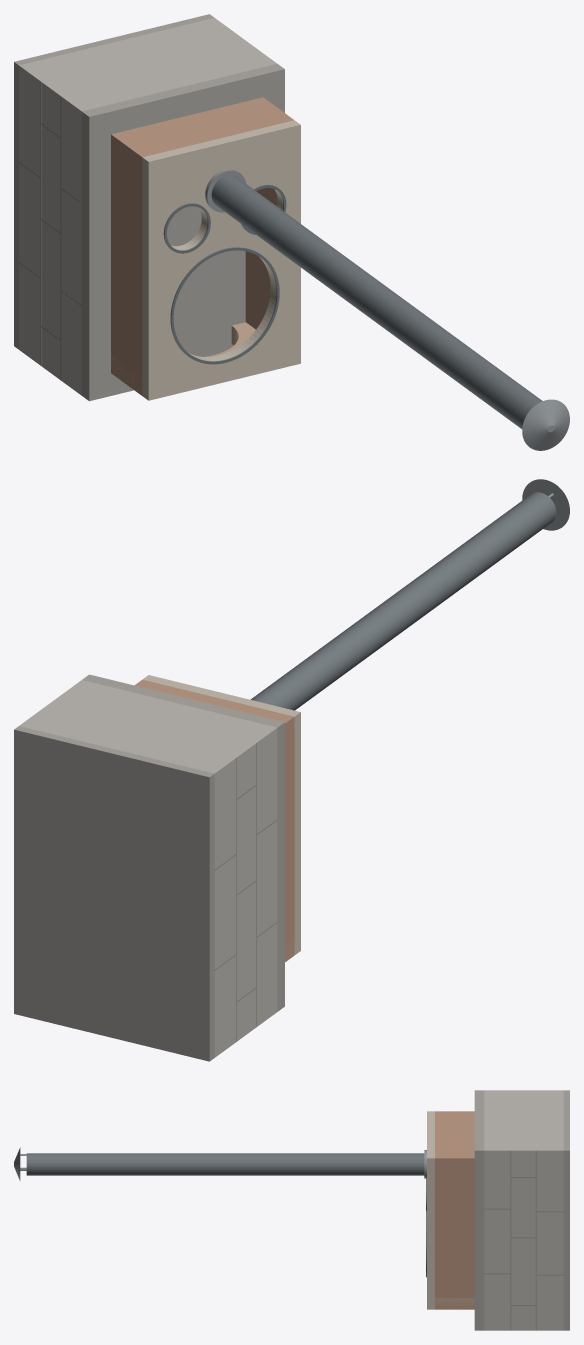
The model's file is modelo-patsari.glb.
3 views of the same model, one above another, from view 1: azimuth 30°, elevation 25°; view 2: azimuth 150°, elevation 25°; view 3: azimuth 270°, elevation 25° (orthographic). The views are drawn at different scales.
Parts seen in each view (by area): view 1: Tapa de cocción con 3 hornillas, 05 · Losa portante, 02 · Muro soporte izquierdo, Chimenea · tubo hueco, 04 · Cierre posterior del soporte, 06 · Lateral cámara izquierdo, 08 · Cierre posterior de cámara, 01 · Solera de apoyo, 07 · Lateral cámara derecho, Chimenea · sombrerete, 03 · Muro soporte derecho, Aro de hornilla 1 (+3 smaller); view 2: 01 · Solera de apoyo, 02 · Muro soporte izquierdo, Chimenea · tubo hueco, 04 · Cierre posterior del soporte, 05 · Losa portante, Tapa de cocción con 3 hornillas, 06 · Lateral cámara izquierdo, 03 · Muro soporte derecho, Chimenea · sombrerete, 08 · Cierre posterior de cámara; view 3: 03 · Muro soporte derecho, Chimenea · tubo hueco, 07 · Lateral cámara derecho, 04 · Cierre posterior del soporte, 05 · Losa portante, 01 · Solera de apoyo, Tapa de cocción con 3 hornillas, 08 · Cierre posterior de cámara, 02 · Muro soporte izquierdo, 09 · Frente cámara con arco, Junta horizontal lado 1 z37, Junta horizontal lado 1 z21.
Part boxes in pixels (left/top/right/bottom): Tapa de cocción con 3 hornillas: left=142, top=120, right=300, bottom=400; 05 · Losa portante: left=81, top=63, right=284, bottom=401; 02 · Muro soporte izquierdo: left=19, top=60, right=102, bottom=395; Chimenea · tubo hueco: left=211, top=175, right=542, bottom=428; 04 · Cierre posterior del soporte: left=41, top=23, right=254, bottom=105; 06 · Lateral cámara izquierdo: left=111, top=130, right=159, bottom=395; 08 · Cierre posterior de cámara: left=128, top=101, right=276, bottom=152; 01 · Solera de apoyo: left=14, top=14, right=214, bottom=349; 07 · Lateral cámara derecho: left=245, top=97, right=293, bottom=329; Chimenea · sombrerete: left=522, top=399, right=569, bottom=450; 03 · Muro soporte derecho: left=193, top=18, right=276, bottom=68; Aro de hornilla 1: left=170, top=247, right=279, bottom=364; 01 · Solera de apoyo: left=14, top=726, right=214, bottom=1061; 02 · Muro soporte izquierdo: left=193, top=722, right=277, bottom=1057; Chimenea · tubo hueco: left=250, top=492, right=556, bottom=710; 04 · Cierre posterior del soporte: left=41, top=685, right=255, bottom=768; 05 · Losa portante: left=82, top=674, right=284, bottom=1011; Tapa de cocción con 3 hornillas: left=143, top=675, right=300, bottom=954; 06 · Lateral cámara izquierdo: left=269, top=712, right=294, bottom=962; 03 · Muro soporte derecho: left=19, top=680, right=102, bottom=730; Chimenea · sombrerete: left=522, top=479, right=569, bottom=530; 08 · Cierre posterior de cámara: left=152, top=684, right=276, bottom=718; 03 · Muro soporte derecho: left=484, top=1144, right=563, bottom=1330; Chimenea · tubo hueco: left=26, top=1153, right=424, bottom=1175; 07 · Lateral cámara derecho: left=435, top=1153, right=474, bottom=1309; 04 · Cierre posterior del soporte: left=484, top=1097, right=563, bottom=1143; 05 · Losa portante: left=474, top=1090, right=484, bottom=1330; 01 · Solera de apoyo: left=563, top=1090, right=569, bottom=1330; Tapa de cocción con 3 hornillas: left=427, top=1111, right=434, bottom=1309; 08 · Cierre posterior de cámara: left=435, top=1116, right=474, bottom=1152; 02 · Muro soporte izquierdo: left=484, top=1090, right=563, bottom=1096; 09 · Frente cámara con arco: left=435, top=1298, right=474, bottom=1309; Junta horizontal lado 1 z37: left=510, top=1150, right=511, bottom=1330; Junta horizontal lado 1 z21: left=535, top=1150, right=536, bottom=1330.
Size of the model in its own units: 0.9003 by 1.25 by 3.5.
